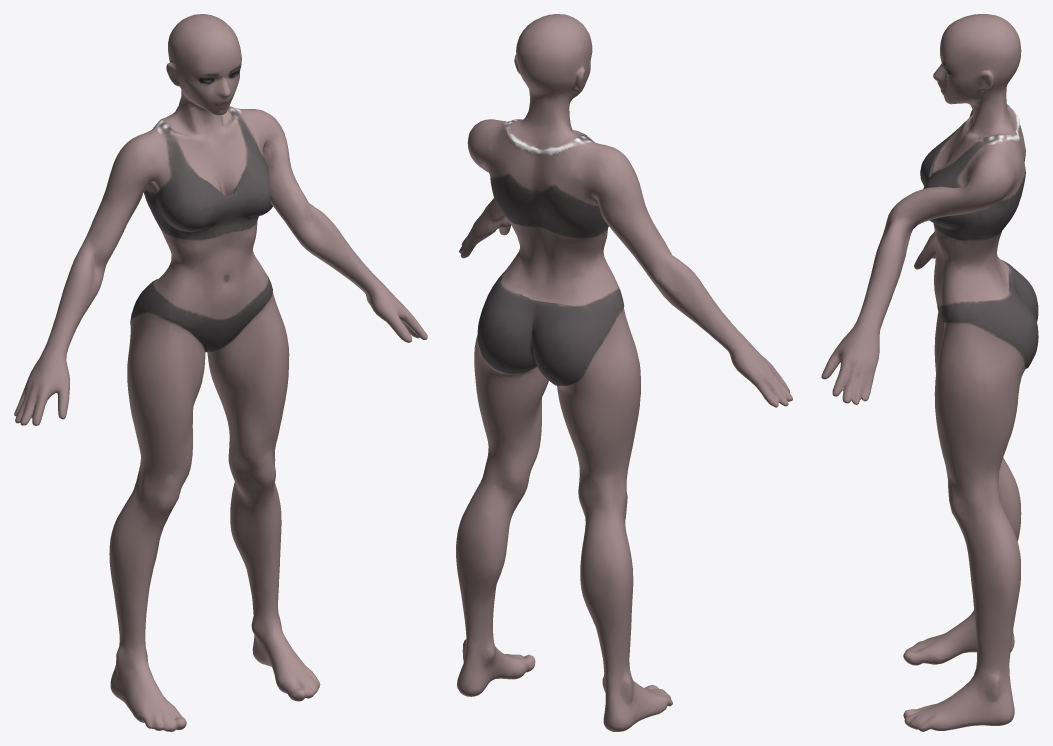
File: 17-UpperArmR-60-child60-twist-20-baseline.glb
The picture shows the model from 3 angles, left to right: view 1: azimuth 30°, elevation 25°; view 2: azimuth 150°, elevation 25°; view 3: azimuth 270°, elevation 25°; orthographic projection. The views are drawn at different scales.
Visible parts, largest first — view 1: baseline; view 2: baseline; view 3: baseline.
Part boxes in pixels (x1=…): baseline: x1=14, y1=14, x2=427, y2=731; baseline: x1=456, y1=14, x2=792, y2=731; baseline: x1=821, y1=14, x2=1038, y2=731.
Bounding box in the file's own units: 0.569 × 1 × 0.2919.
1 material, 1 textured.
